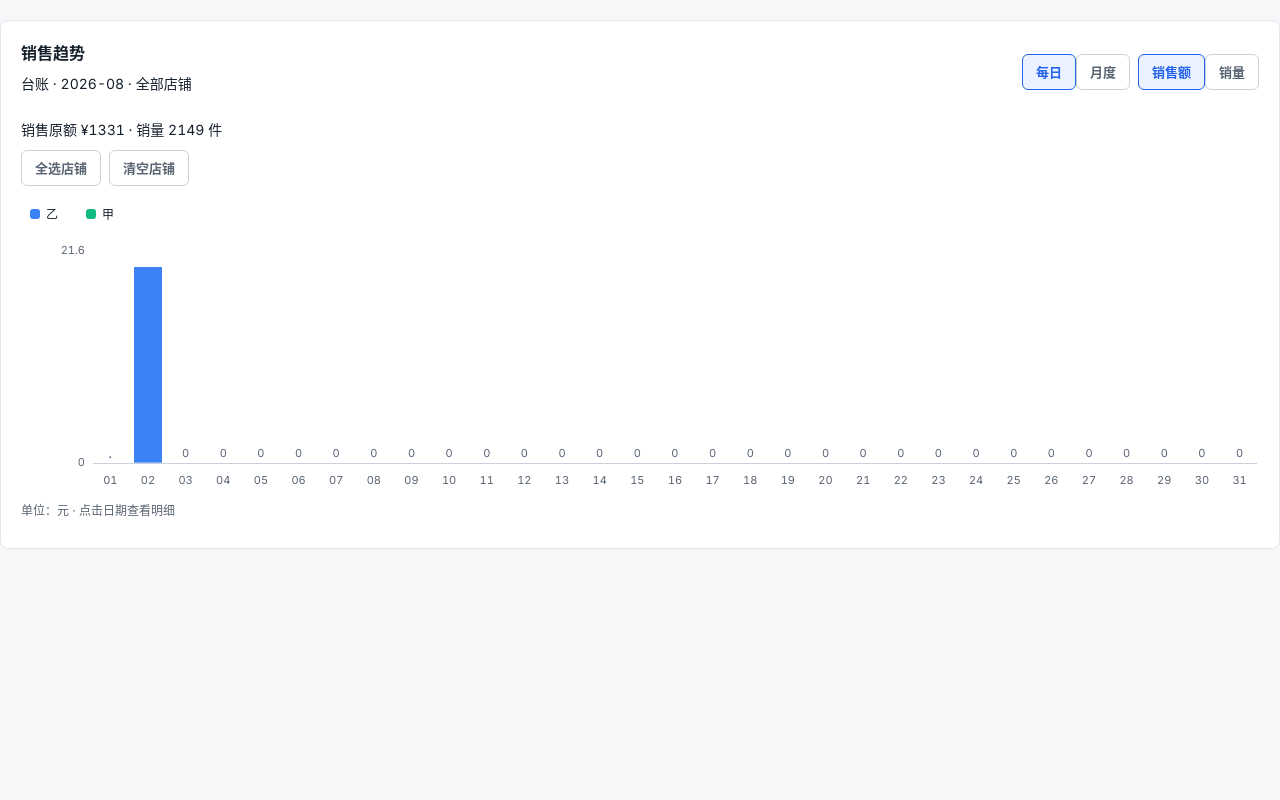
Test: honors unknown availability even when detail returns records
Click the button with class "sales-daily-bar" showing "· 01": (110,357) [93, 251, 128, 463]
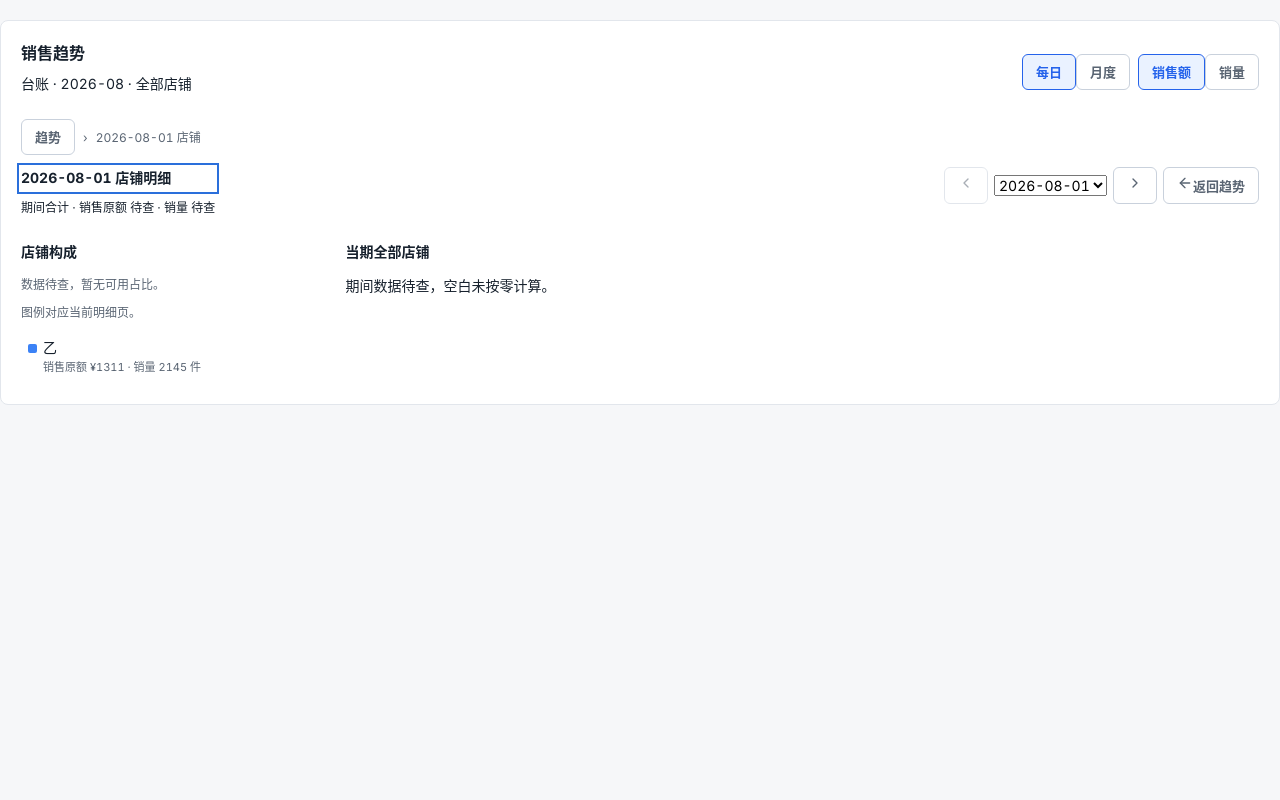
Result: the text "期间合计 · 销售原额 待查 · 销量 待查" is shown at [21, 198, 215, 217]
